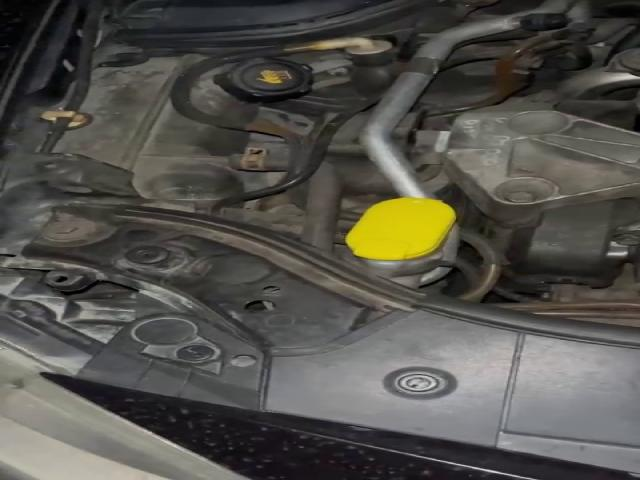antifreeze_tank: (53, 54, 250, 203), (194, 58, 311, 123)
